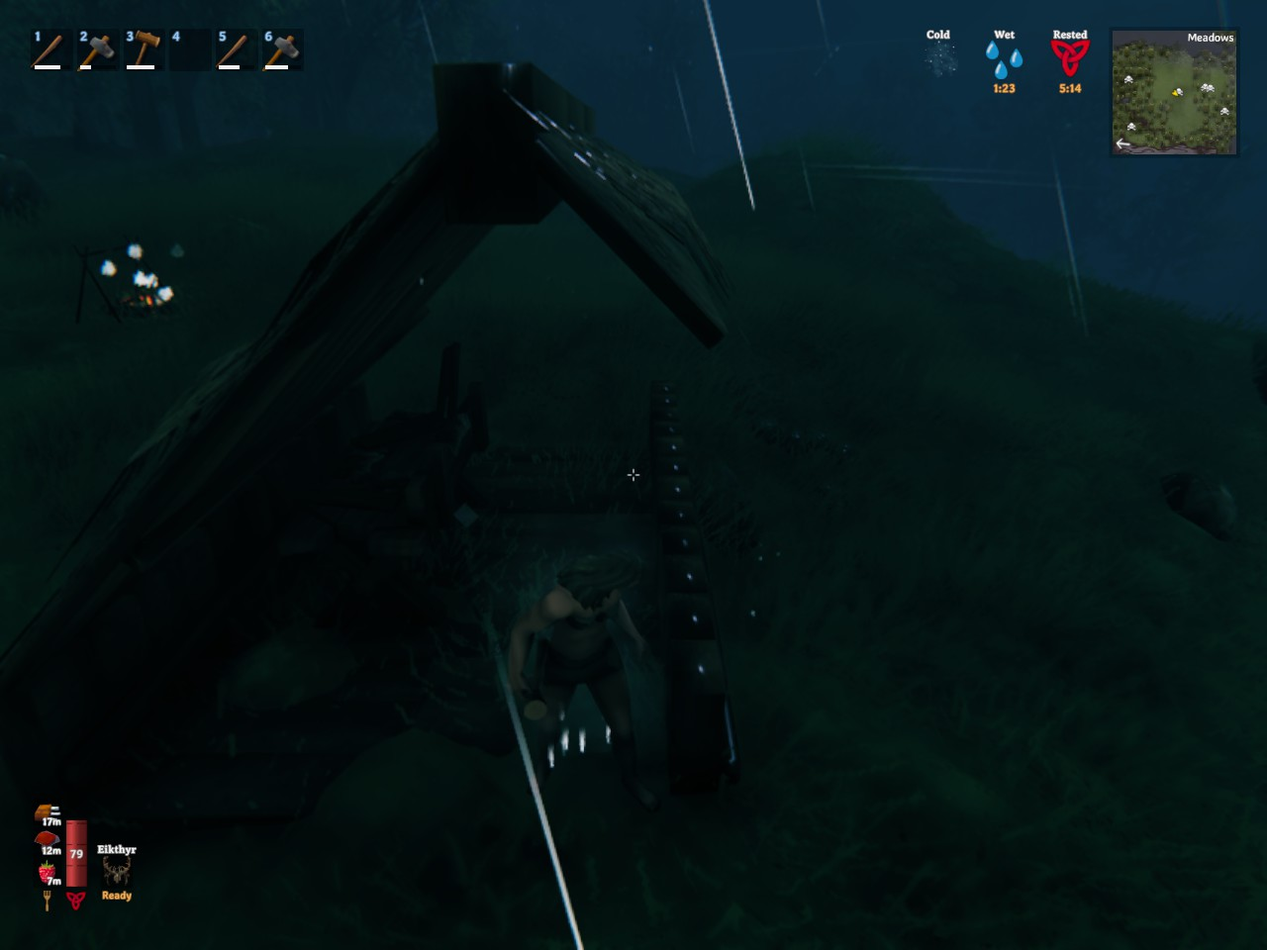Food Indicator: (36, 797, 63, 891)
Health Bar: (63, 820, 90, 891)
Hotbar: (25, 21, 398, 78)
Status Indicator: (903, 25, 1110, 96)
